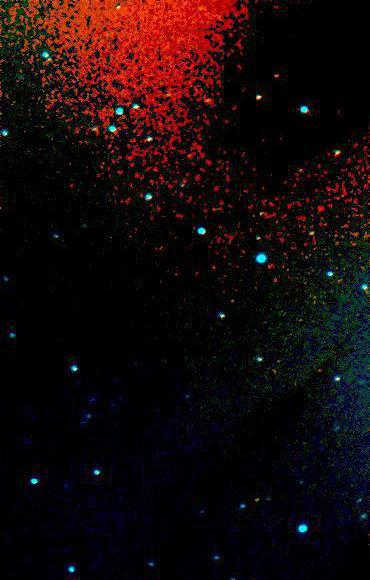star: (241, 485, 271, 515)
